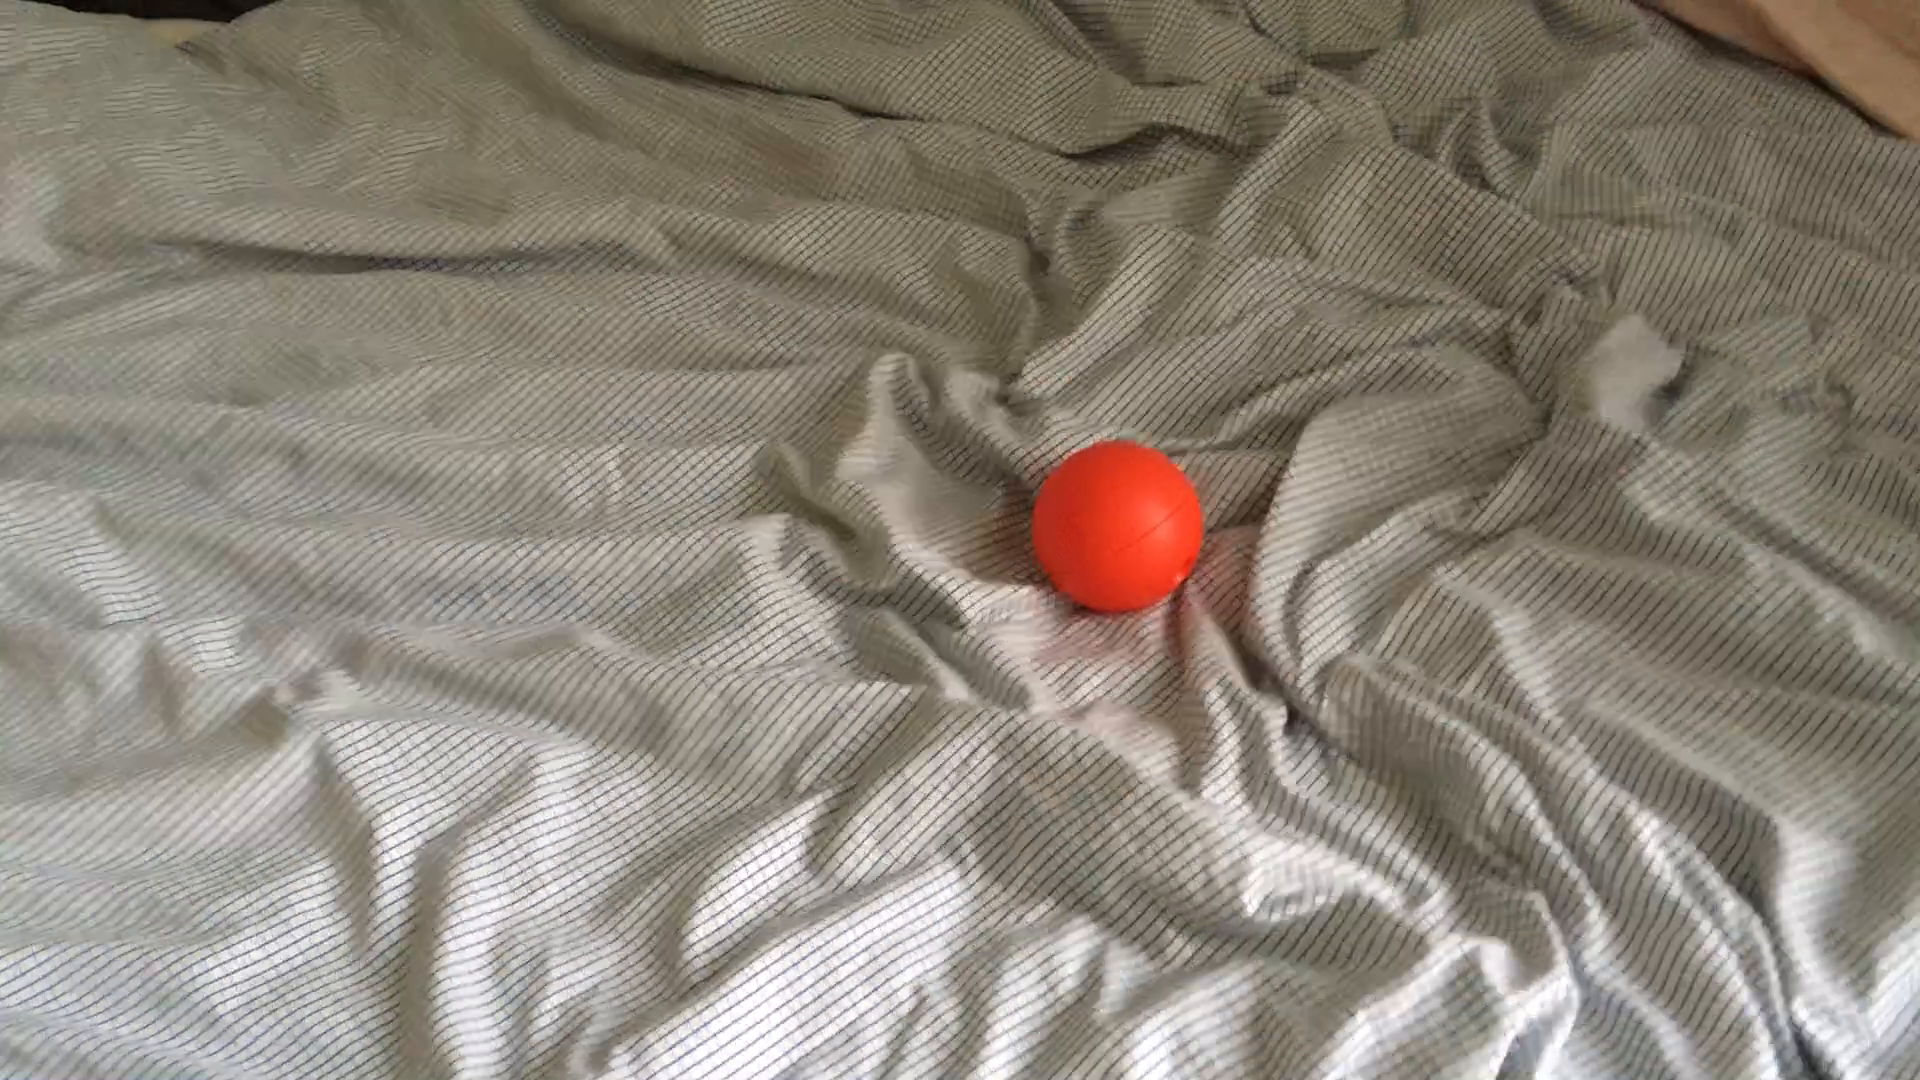Ball: (1027, 438, 1207, 615)
